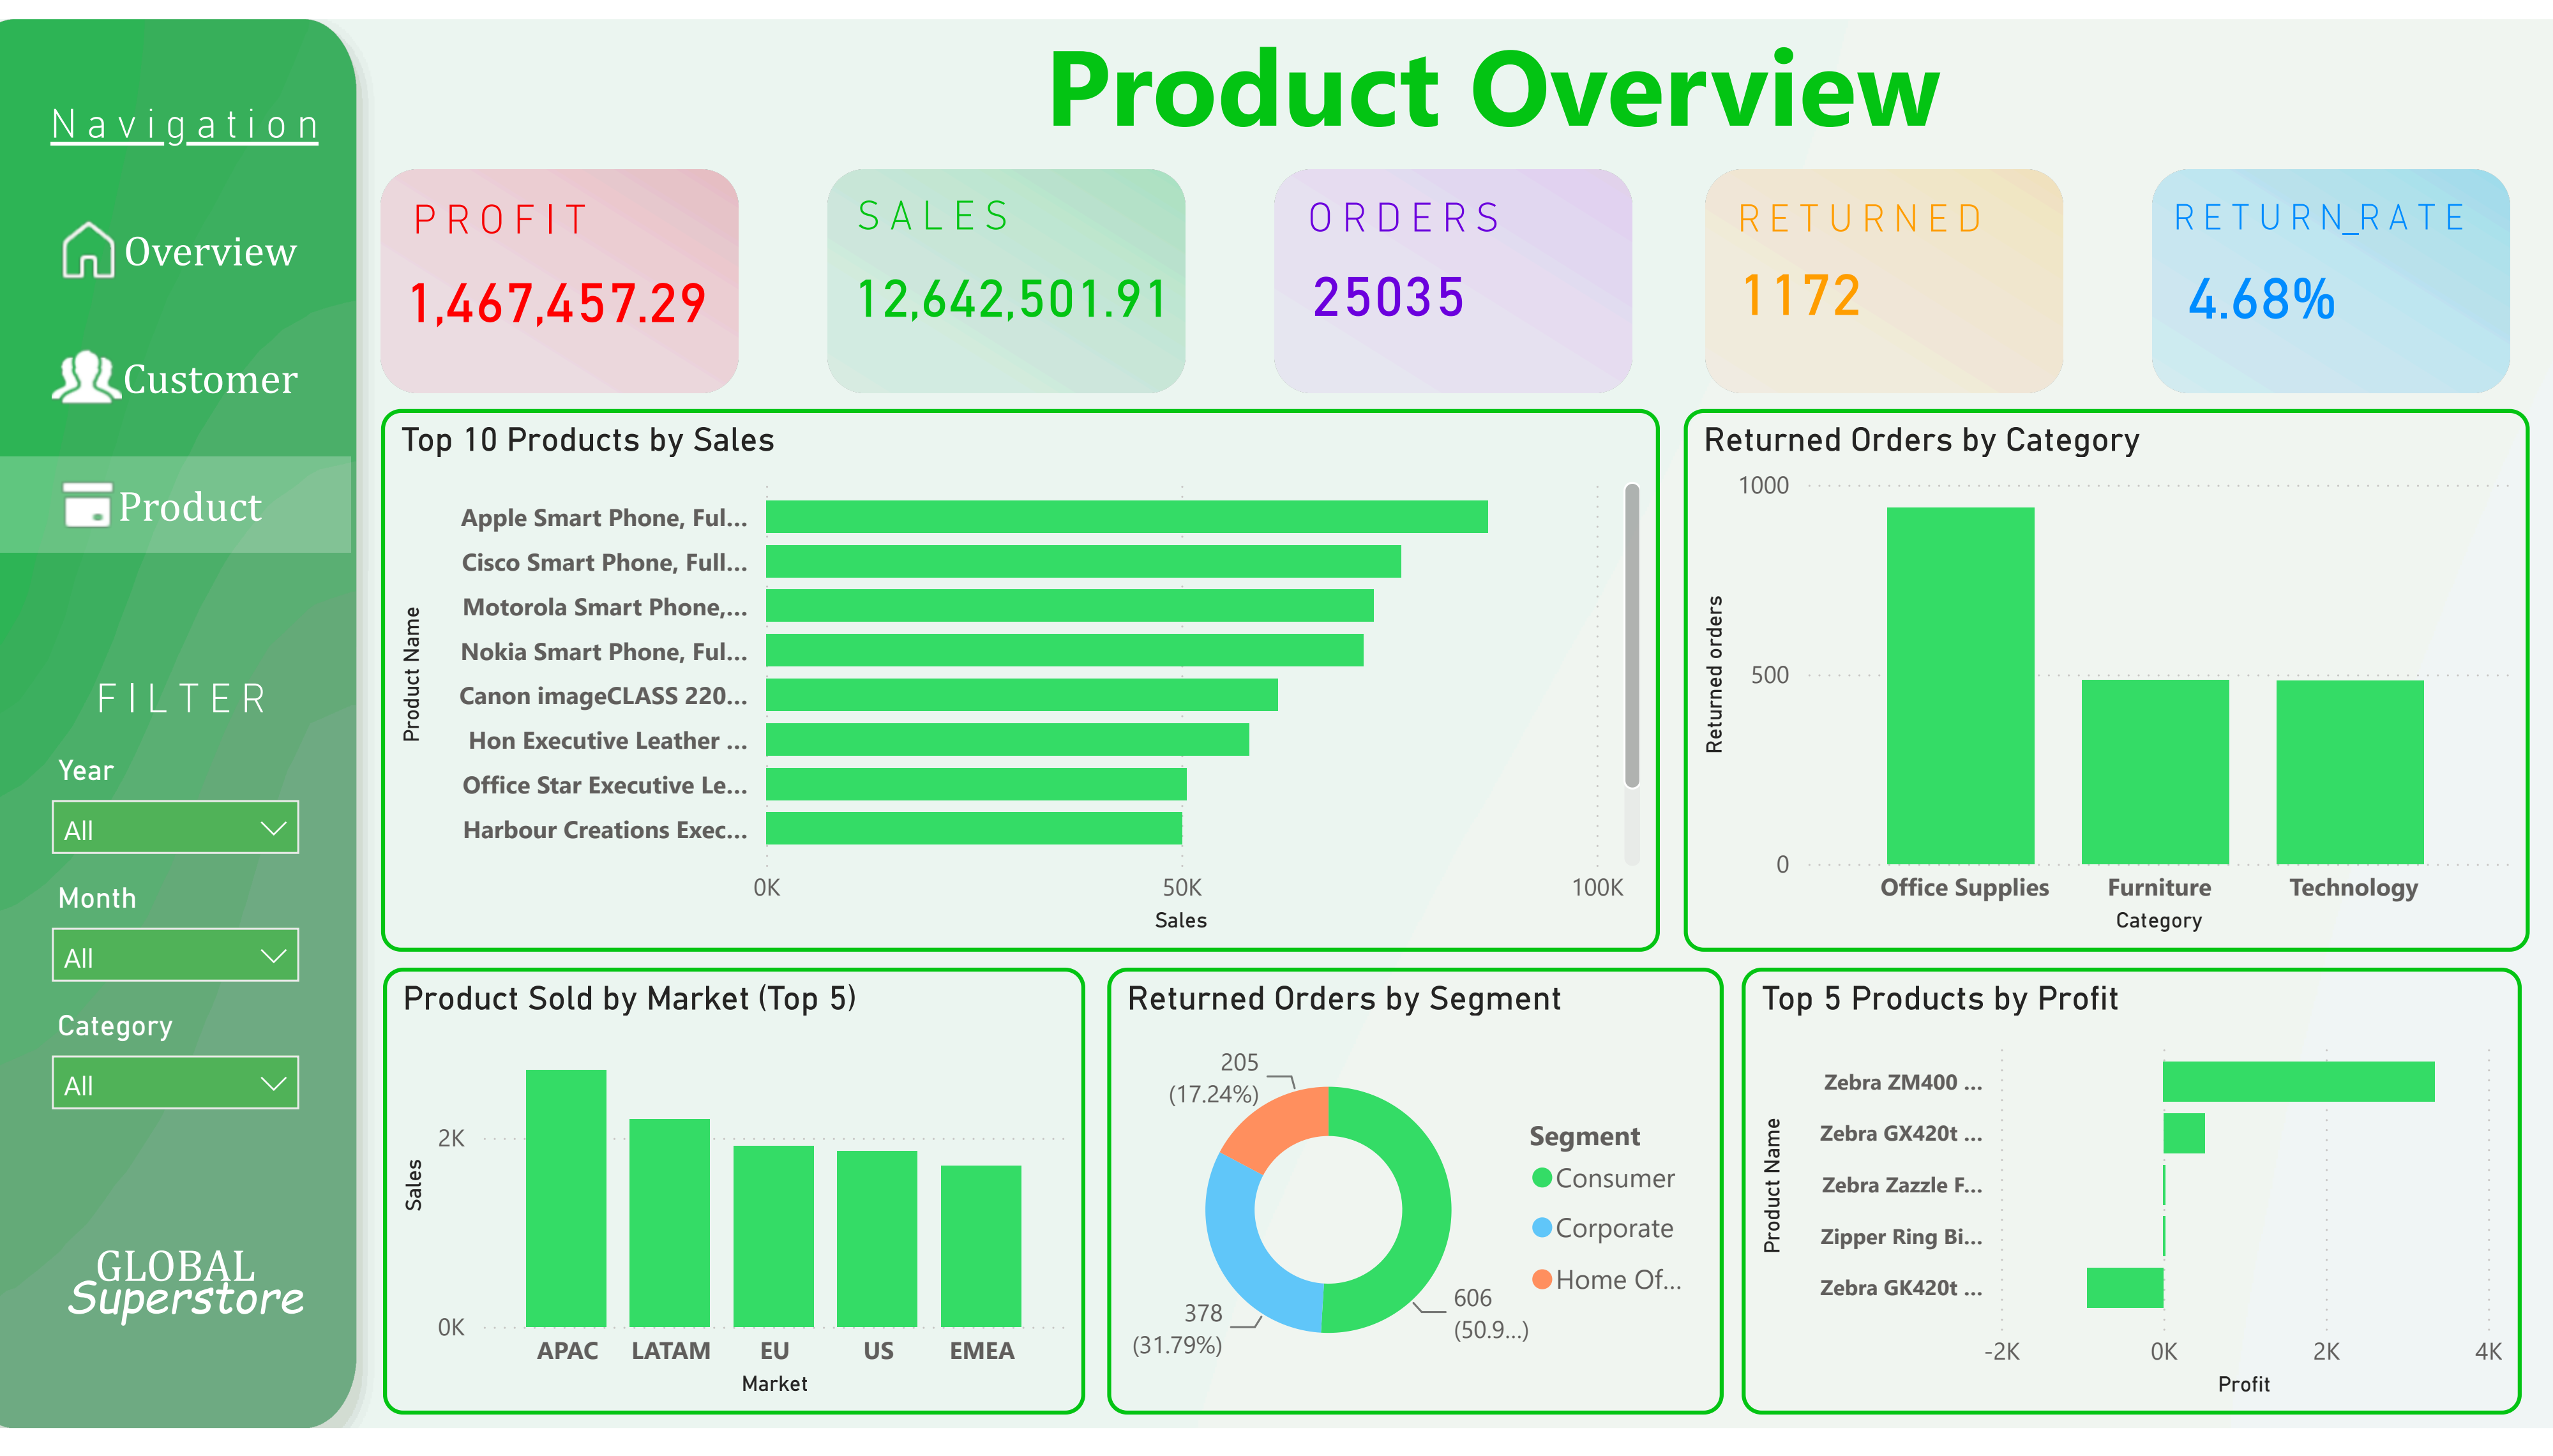

Layout of this report page (visuals, bound fields, positions):
{"tool":"powerbi","page":{"name":"2","canvas":[1280,720],"ordinal":3},"visuals":[{"type":"shape","box":[16.2,604.1,143.8,48.8],"z":0},{"type":"image","box":[1056,80,224,112],"z":1000},{"type":"shape","box":[17.5,620.4,149,48],"z":2000},{"type":"image","box":[832,80,224,112],"z":3000},{"type":"image","box":[624,80,208,112],"z":4000},{"type":"image","box":[400,80,208,112],"z":5000},{"type":"image","box":[176,80,208,112],"z":6000},{"type":"donutChart","title":"Returned Orders by Segment","fields":{"Category":["globalsuperstore.Segment"],"Y":["Calculation.Returned Orders_2"]},"box":[555,480,308.8,223.8],"z":7000},{"type":"clusteredColumnChart","title":"Product Sold by Market (Top 5)","fields":{"Category":["globalsuperstore.Market"],"Y":["Calculation.Total_products"]},"box":[192,480,352,224],"z":8000},{"type":"barChart","title":"Top 5 Products by Profit","fields":{"Category":["globalsuperstore.Product Name"],"Y":["Calculation.Total_Profit"]},"box":[873.3,480,391.1,224.4],"z":9000},{"type":"card","fields":{"Values":["Calculation.Total_Profit"]},"box":[190.7,105.7,175.6,78.2],"z":10000},{"type":"card","fields":{"Values":["Calculation.Total_sales"]},"box":[409.3,103.5,196.5,80.2],"z":11000},{"type":"card","fields":{"Values":["Calculation.Total_orders"]},"box":[616.3,117.4,160.5,50],"z":12000},{"type":"actionButton","box":[0,96,176,48],"z":13000},{"type":"actionButton","box":[0,160,176,48],"z":14000},{"type":"actionButton","box":[0,224,176,48],"z":15000},{"type":"shape","box":[18,32,149,48],"z":16000},{"type":"shape","box":[16,320,149,48],"z":17000},{"type":"slicer","fields":{"Values":["globalsuperstore.Order Date.Variation.Date Hierarchy.Year"]},"box":[16,368,144,64],"z":18000},{"type":"slicer","fields":{"Values":["globalsuperstore.Order Date.Variation.Date Hierarchy.Month"]},"box":[16,432,144,64],"z":19000},{"type":"slicer","fields":{"Values":["globalsuperstore.Category"]},"box":[16,496,144,64],"z":20000},{"type":"shape","box":[514.4,0,468.9,68.9],"z":21000},{"type":"shape","box":[176,80,149,48],"z":22000},{"type":"shape","box":[393,79.1,148.8,47.7],"z":23000},{"type":"shape","box":[629.1,80.2,148.8,47.7],"z":24000},{"type":"shape","box":[1088.4,80.2,148.8,47.7],"z":25000},{"type":"card","fields":{"Values":["Calculation.Returned_order"]},"box":[822.1,117.4,160.5,47.7],"z":26000},{"type":"shape","box":[864,80.2,136,47.7],"z":27000},{"type":"barChart","title":"Top 10 Products by Sales","fields":{"Category":["globalsuperstore.Product Name"],"Y":["Calculation.Total_sales"]},"box":[191.2,200,641.2,272],"z":28000},{"type":"columnChart","title":"Returned Orders  by Category","fields":{"Category":["globalsuperstore.Category"],"Y":["Calculation.Returned Orders_2"]},"box":[843.9,200.3,424,272],"z":29000},{"type":"card","fields":{"Values":["Calculation.Return_rate"]},"box":[1050,121.1,167.8,43.3],"z":30000}]}

Visuals, with their boxes in screenshot pixels (x1, y1, x2, y2), scaled from the page's 1280x720 canvas onto the 2553x1456 screenshot:
shape: {"x1": 33, "y1": 1222, "x2": 319, "y2": 1320}
image: {"x1": 2106, "y1": 161, "x2": 2552, "y2": 388}
shape: {"x1": 35, "y1": 1254, "x2": 332, "y2": 1352}
image: {"x1": 1659, "y1": 161, "x2": 2106, "y2": 388}
image: {"x1": 1245, "y1": 161, "x2": 1659, "y2": 388}
image: {"x1": 798, "y1": 161, "x2": 1213, "y2": 388}
image: {"x1": 351, "y1": 161, "x2": 766, "y2": 388}
"Returned Orders by Segment" donutChart: {"x1": 1107, "y1": 971, "x2": 1723, "y2": 1423}
"Product Sold by Market (Top 5)" clusteredColumnChart: {"x1": 383, "y1": 971, "x2": 1085, "y2": 1423}
"Top 5 Products by Profit" barChart: {"x1": 1742, "y1": 971, "x2": 2522, "y2": 1425}
card - Calculation.Total_Profit: {"x1": 380, "y1": 214, "x2": 730, "y2": 372}
card - Calculation.Total_sales: {"x1": 817, "y1": 209, "x2": 1209, "y2": 372}
card - Calculation.Total_orders: {"x1": 1229, "y1": 237, "x2": 1549, "y2": 338}
actionButton: {"x1": 0, "y1": 194, "x2": 351, "y2": 291}
actionButton: {"x1": 0, "y1": 324, "x2": 351, "y2": 421}
actionButton: {"x1": 0, "y1": 453, "x2": 351, "y2": 550}
shape: {"x1": 36, "y1": 64, "x2": 333, "y2": 161}
shape: {"x1": 32, "y1": 647, "x2": 329, "y2": 744}
slicer - globalsuperstore.Order Date.Variation.Date Hierarchy.Year: {"x1": 32, "y1": 744, "x2": 319, "y2": 874}
slicer - globalsuperstore.Order Date.Variation.Date Hierarchy.Month: {"x1": 32, "y1": 874, "x2": 319, "y2": 1003}
slicer - globalsuperstore.Category: {"x1": 32, "y1": 1003, "x2": 319, "y2": 1132}
shape: {"x1": 1026, "y1": 0, "x2": 1961, "y2": 139}
shape: {"x1": 351, "y1": 161, "x2": 648, "y2": 259}
shape: {"x1": 784, "y1": 160, "x2": 1081, "y2": 257}
shape: {"x1": 1254, "y1": 162, "x2": 1551, "y2": 259}
shape: {"x1": 2171, "y1": 162, "x2": 2467, "y2": 259}
card - Calculation.Returned_order: {"x1": 1639, "y1": 237, "x2": 1960, "y2": 334}
shape: {"x1": 1723, "y1": 162, "x2": 1994, "y2": 259}
"Top 10 Products by Sales" barChart: {"x1": 381, "y1": 405, "x2": 1661, "y2": 954}
"Returned Orders  by Category" columnChart: {"x1": 1683, "y1": 405, "x2": 2529, "y2": 955}
card - Calculation.Return_rate: {"x1": 2094, "y1": 245, "x2": 2429, "y2": 333}
